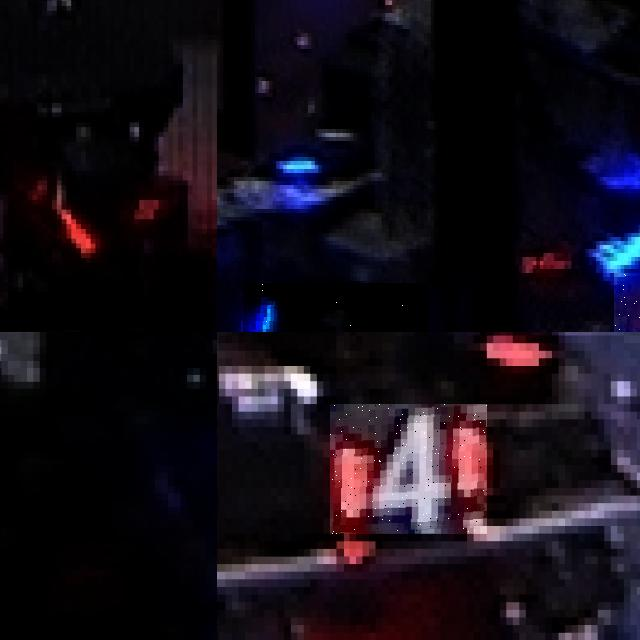B1: (242, 283, 429, 332)
R4: (330, 404, 487, 534)
